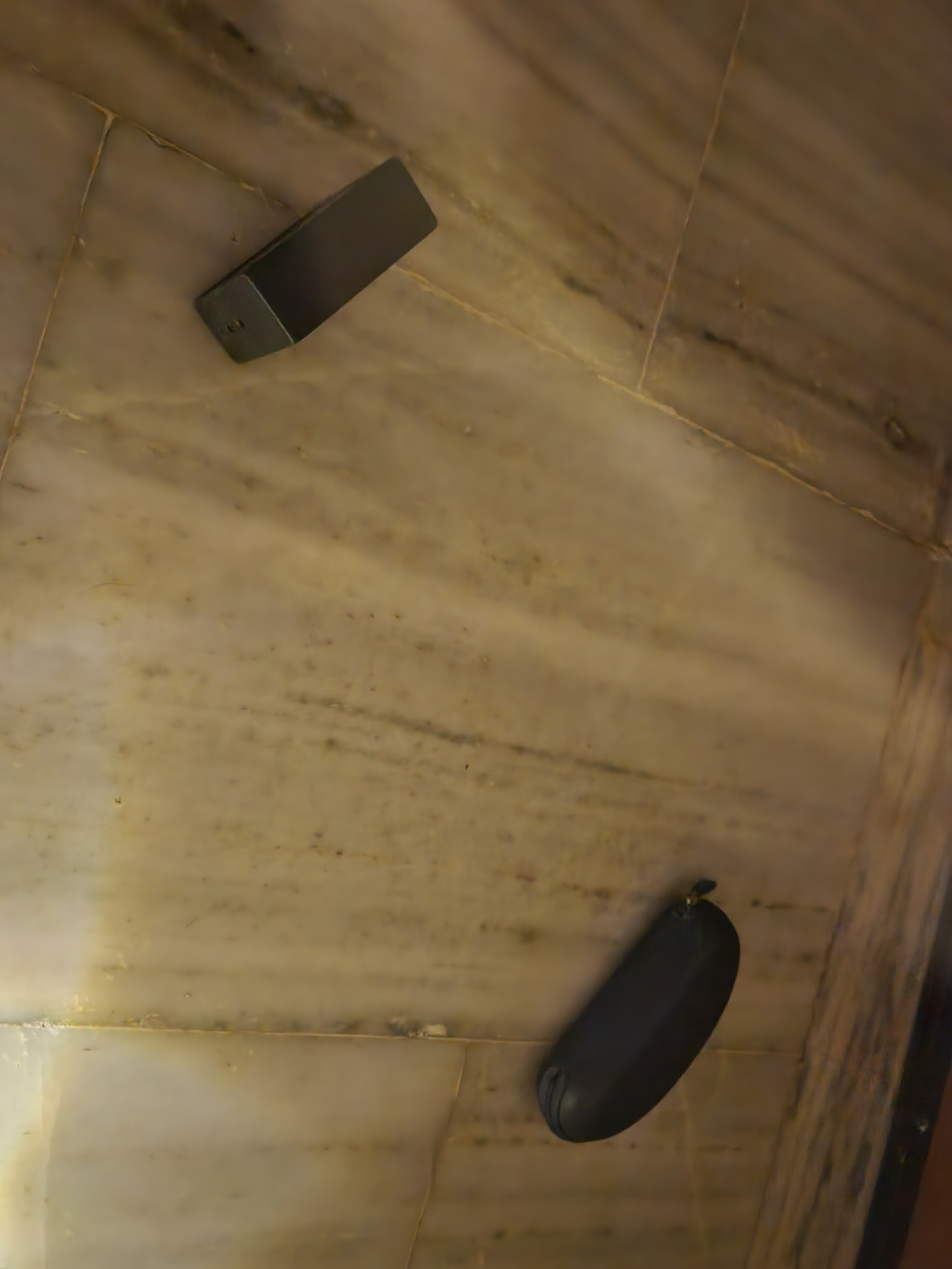case: (534, 864, 748, 1155)
speaker: (188, 159, 446, 366)
